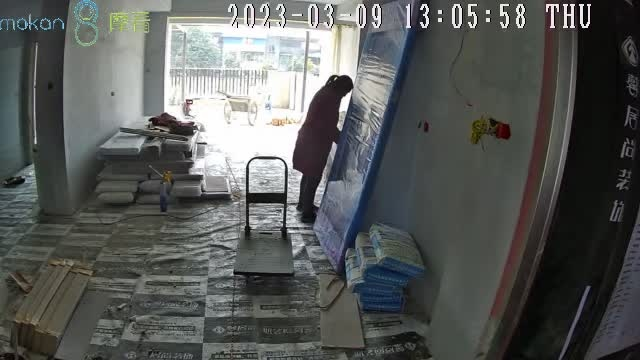people: (293, 75, 352, 223)
window: (169, 23, 347, 125)
